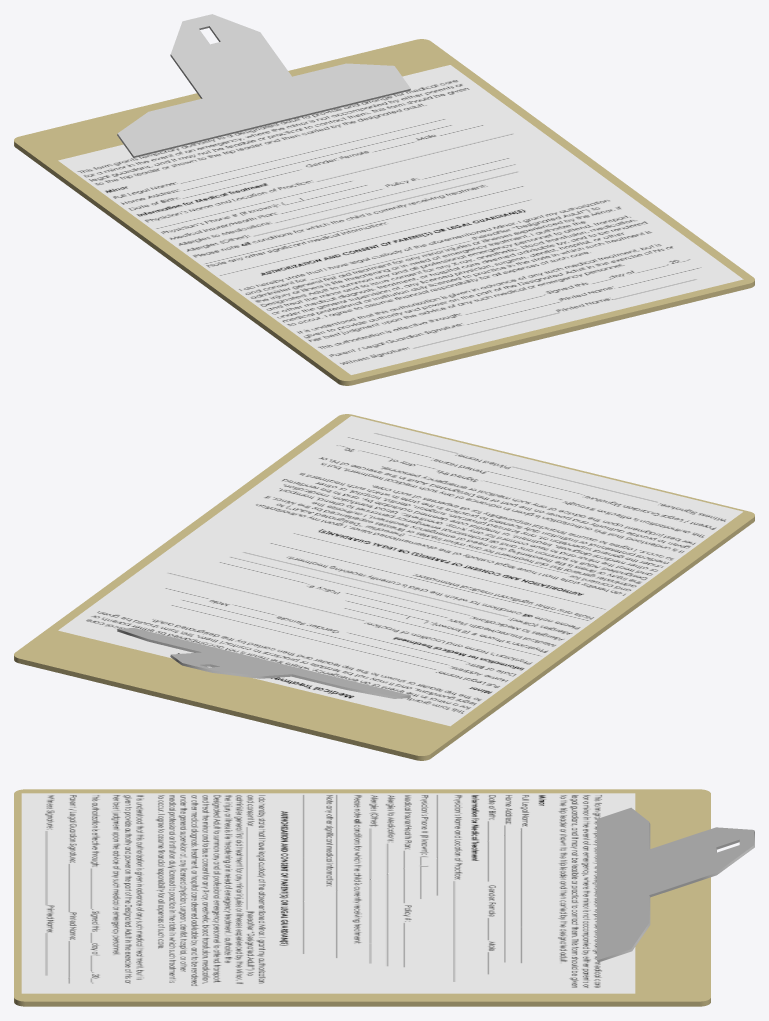
Rendered from Clipboard.fbx.
The picture shows the model from 3 angles, top to bottom: view 1: azimuth 30°, elevation 25°; view 2: azimuth 150°, elevation 25°; view 3: azimuth 270°, elevation 25°; orthographic projection. The views are drawn at different scales.
Visible parts, largest first — view 1: Plane_1; view 2: Plane_1; view 3: Plane_1.
Part boxes in pixels (x1,y1,x2,y2): Plane_1: (14,14,754,385); Plane_1: (14,414,754,760); Plane_1: (14,789,754,1006).
Bounding box in the file's own units: 22.86 × 3.16 × 33.75.
3 materials, 1 textured.
